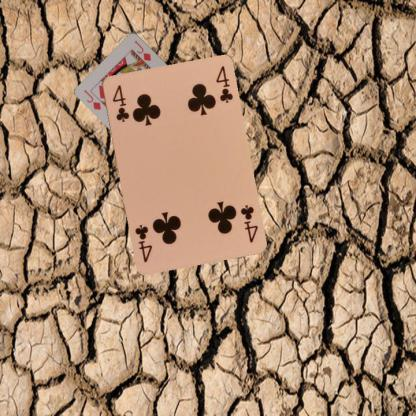4c: (237, 202, 259, 244), (109, 82, 131, 123)
Jd: (82, 86, 102, 112)
